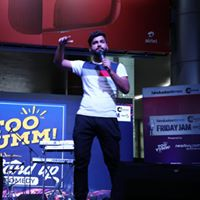tooyumm: (1, 109, 61, 150)
